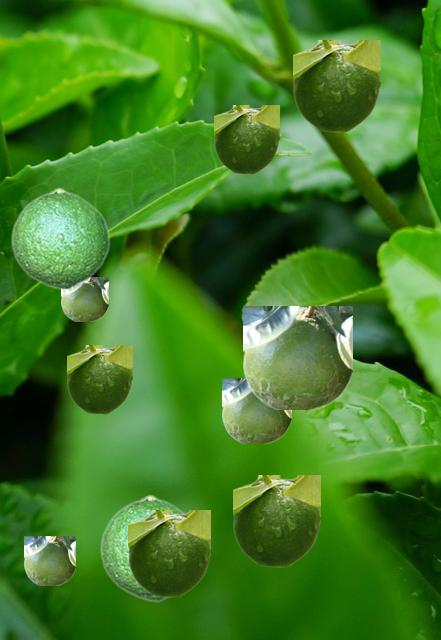dalandan: (243, 306, 351, 408), (10, 187, 109, 289), (99, 494, 185, 601), (293, 40, 379, 131), (233, 475, 319, 566), (128, 510, 209, 596), (214, 105, 278, 173), (67, 345, 131, 413), (222, 378, 290, 442), (24, 536, 74, 584), (61, 277, 107, 320)
